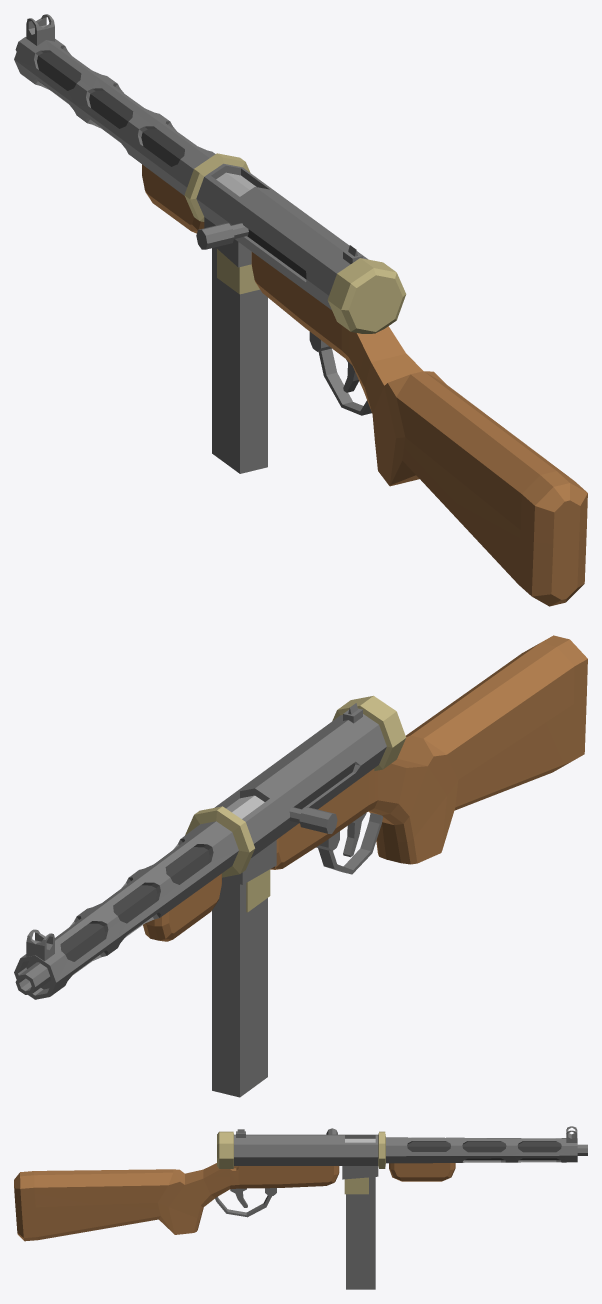
Rendered from PPSH.fbx.
The picture shows the model from 3 angles, top to bottom: view 1: azimuth 30°, elevation 25°; view 2: azimuth 150°, elevation 25°; view 3: azimuth 270°, elevation 25°; orthographic projection. The views are drawn at different scales.
Visible parts, largest first — view 1: PPSH40.002; view 2: PPSH40.002; view 3: PPSH40.002.
Boxes of the visible parts, x1,y1,x2,y2 form: PPSH40.002: [14, 14, 587, 606]; PPSH40.002: [14, 635, 587, 1097]; PPSH40.002: [14, 1126, 587, 1289].
Size of the model in its own units: 104 by 302 by 999.
